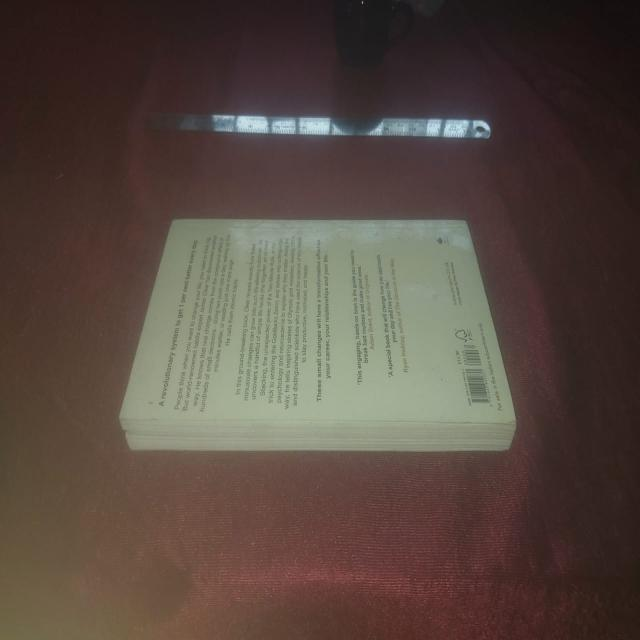Book: (121, 214, 525, 446)
Cup: (319, 0, 423, 74)
scale: (140, 100, 500, 146)
